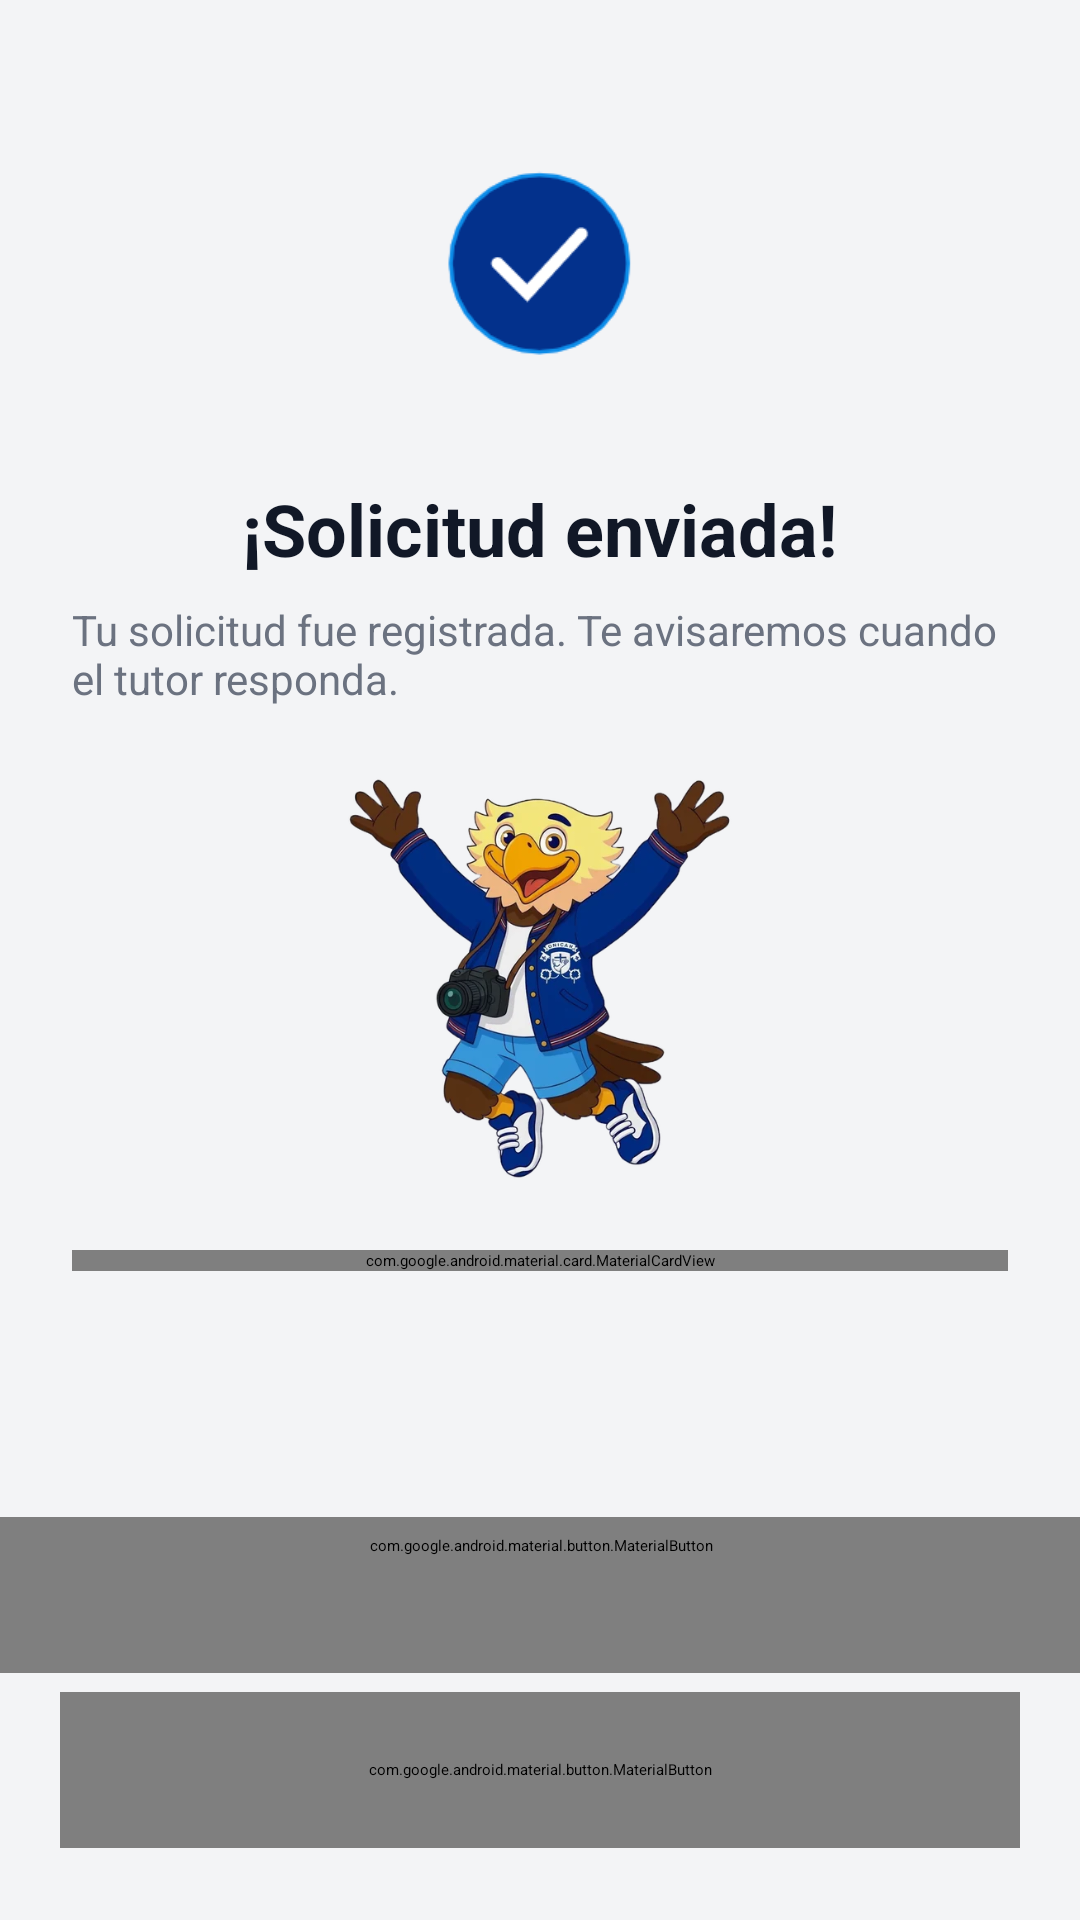

Where to tap for icons on this 1080px×1920px app screen, as point (x, y):
approve: point (539, 263)
